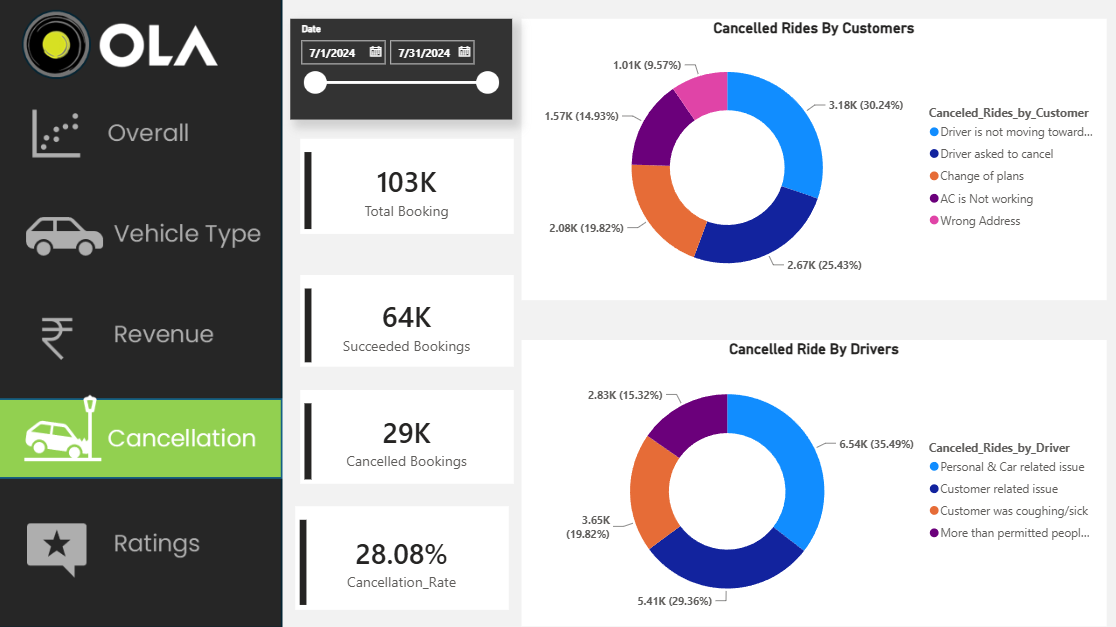

What the dashboard file says about the page in this screenshot:
{"tool":"powerbi","page":{"name":"Cancellation","canvas":[1280,720],"ordinal":3},"visuals":[{"type":"actionButton","box":[0,220,325.7,94.3],"z":0},{"type":"actionButton","box":[0,342.9,325.7,90],"z":1000},{"type":"actionButton","box":[0,578.6,325.7,90],"z":2000},{"type":"actionButton","box":[0,111.4,325.7,90],"z":3000},{"type":"donutChart","title":"Cancelled Ride By Drivers","fields":{"Category":["Bookings.Canceled_Rides_by_Driver"],"Y":["CountNonNull(Bookings.Canceled_Rides_by_Driver)"]},"box":[597.1,388.6,668.6,327.1],"z":4000},{"type":"donutChart","title":"Cancelled Rides By Customers","fields":{"Y":["CountNonNull(Bookings.Canceled_Rides_by_Customer)"],"Category":["Bookings.Canceled_Rides_by_Customer"]},"box":[597.1,21.4,668.6,321.4],"z":5000},{"type":"slicer","fields":{"Values":["Bookings.Date"]},"box":[333.3,21.1,253.3,115.6],"z":6000},{"type":"cardVisual","fields":{"Data":["Bookings.Count of booking Status"]},"box":[343.8,158.8,243.8,108.8],"z":7000},{"type":"cardVisual","fields":{"Data":["CountNonNull(Bookings.Booking_Status)"]},"box":[343.8,313.8,243.8,105],"z":8000},{"type":"cardVisual","fields":{"Data":["CountNonNull(Bookings.Booking_Status)"]},"box":[343.8,445,243.8,107.5],"z":9000},{"type":"cardVisual","fields":{"Data":["Bookings.Canceled_Percentage"]},"box":[338.8,578.8,243.8,118.8],"z":10000}]}

Visuals, with their boxes on the page's 1280x720 design canvas (x1, y1, x2, y2). These are canvas units, not pixel positions in the 1116x627 screenshot, which may show the page scaled, cropped or inside an application window:
actionButton: (0,220,326,314)
actionButton: (0,343,326,433)
actionButton: (0,579,326,669)
actionButton: (0,111,326,201)
"Cancelled Ride By Drivers" donutChart: (597,389,1266,716)
"Cancelled Rides By Customers" donutChart: (597,21,1266,343)
slicer - Bookings.Date: (333,21,587,137)
cardVisual - Bookings.Count of booking Status: (344,159,588,268)
cardVisual - CountNonNull(Bookings.Booking_Status): (344,314,588,419)
cardVisual - CountNonNull(Bookings.Booking_Status): (344,445,588,552)
cardVisual - Bookings.Canceled_Percentage: (339,579,583,698)
